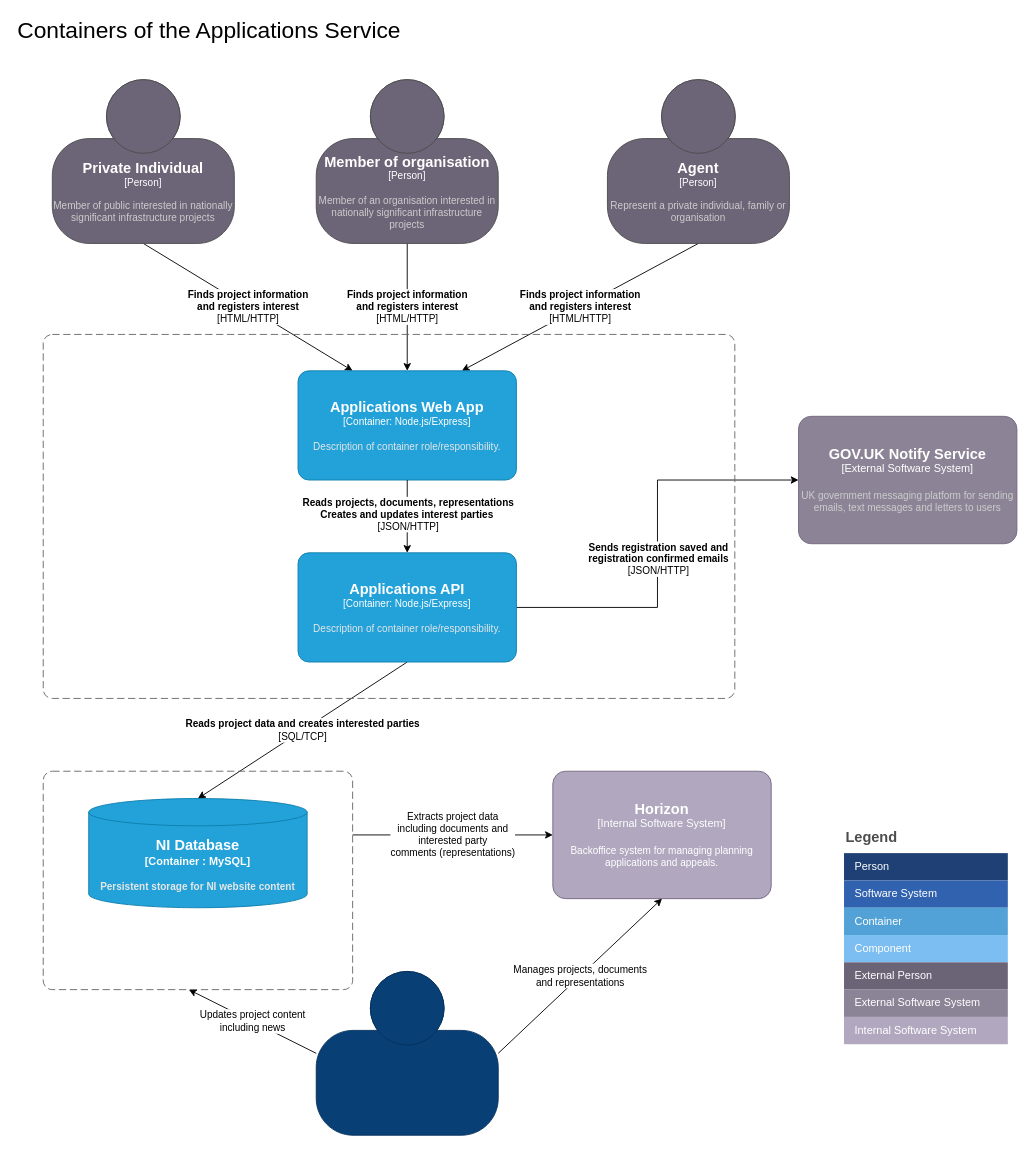
Some shapes in this 1033 by 1151 pixel diagram are drawn without their labels. The shapes that lost their labels are listed below. From the top down, each one's box as (x1, y1, x2, y2) in pixels, then its label:
(42, 334, 735, 698): Applications [Software System]
(42, 770, 353, 990): National Infrastructure (NI) Website [Software System]
(315, 971, 498, 1135): Caseworker [Person] Member of PINS staff who administers project information.
